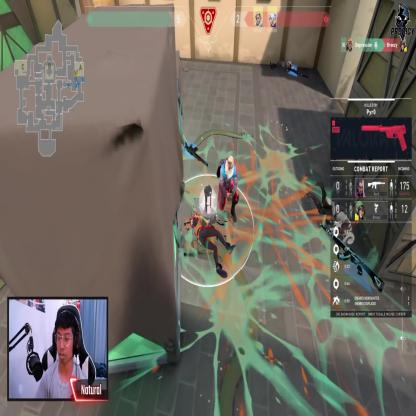enemy: (217, 152, 239, 225)
enemy_head: (227, 156, 234, 172)
